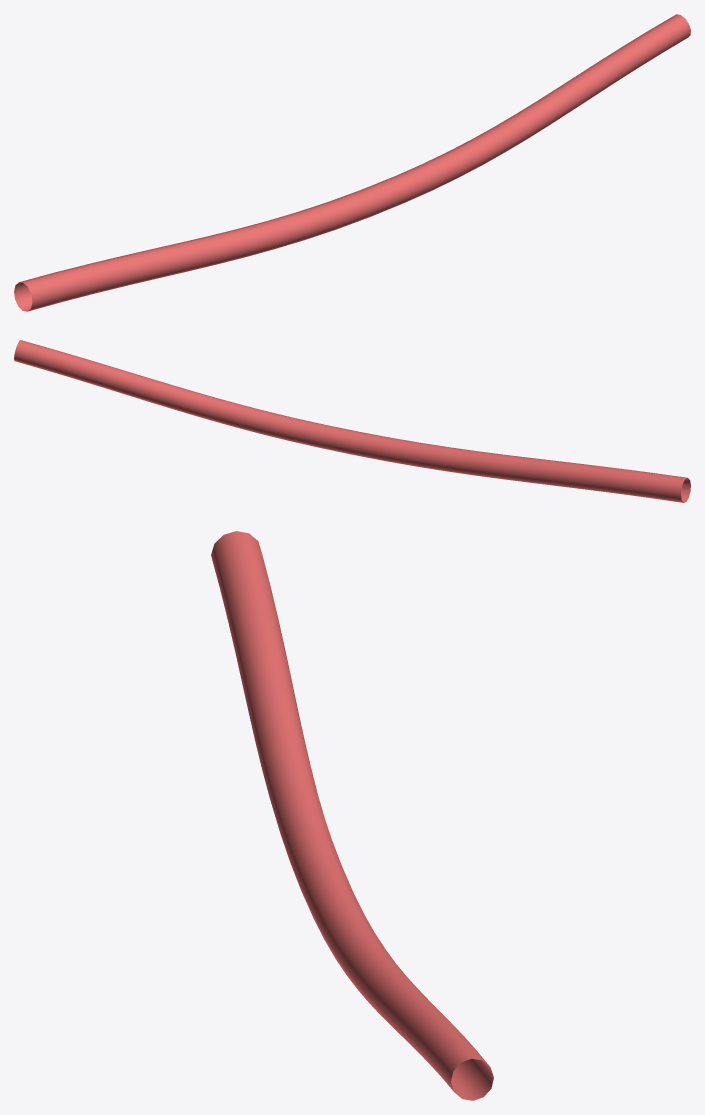
File: Palmar_carpal_branch_of_radial_artery.l_BezierCurve.277.glb
3 renders of one model, top to bottom at view 1: azimuth 30°, elevation 25°; view 2: azimuth 150°, elevation 25°; view 3: azimuth 270°, elevation 25°, orthographic. The views are drawn at different scales.
Visible parts, largest first — view 1: Palmar_carpal_branch_of_radial_artery.l_BezierCurve.277; view 2: Palmar_carpal_branch_of_radial_artery.l_BezierCurve.277; view 3: Palmar_carpal_branch_of_radial_artery.l_BezierCurve.277.
Part boxes in pixels (box(x1,y1,x2,y2)): Palmar_carpal_branch_of_radial_artery.l_BezierCurve.277: box(14, 14, 690, 311); Palmar_carpal_branch_of_radial_artery.l_BezierCurve.277: box(14, 340, 690, 502); Palmar_carpal_branch_of_radial_artery.l_BezierCurve.277: box(211, 531, 493, 1100).
Size of the model in its own units: 0.0273 by 0.00292 by 0.00545.
